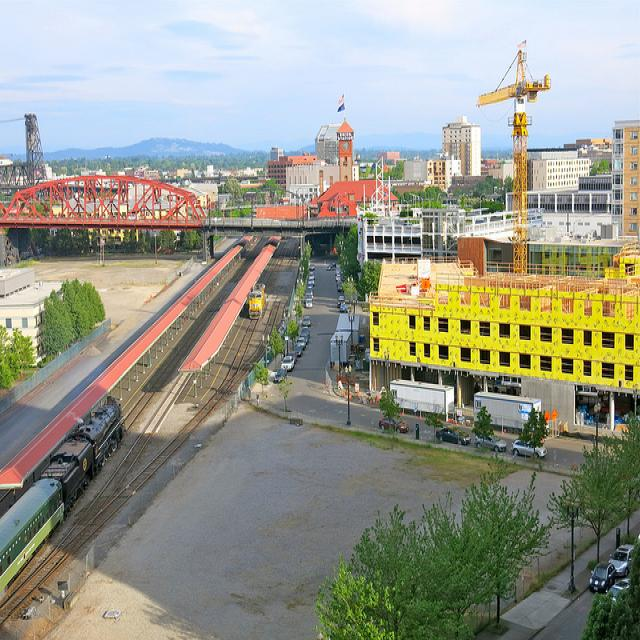Vehicle: (297, 328, 548, 459), (389, 378, 468, 427), (474, 391, 542, 435), (330, 314, 362, 363), (588, 558, 616, 594), (608, 544, 635, 577), (473, 435, 507, 453), (606, 578, 630, 602), (280, 355, 295, 372), (273, 366, 287, 384), (300, 317, 312, 328), (305, 297, 313, 309), (296, 346, 302, 357), (305, 293, 313, 299), (309, 263, 315, 270), (327, 265, 332, 270), (308, 280, 314, 284)
